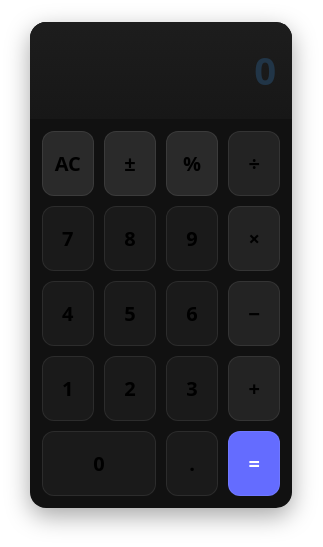
Test: percent converts value to fraction
Click the button "5" at [130, 314], box [104, 281, 156, 346]
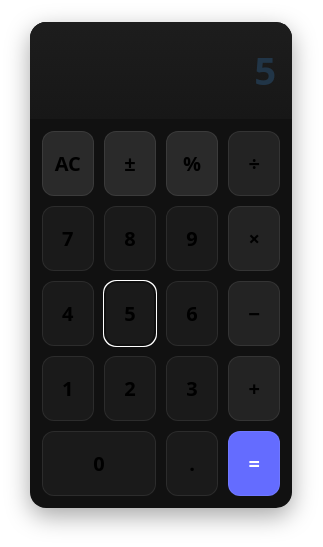
Click the button "0" at [99, 464], box [42, 431, 156, 496]
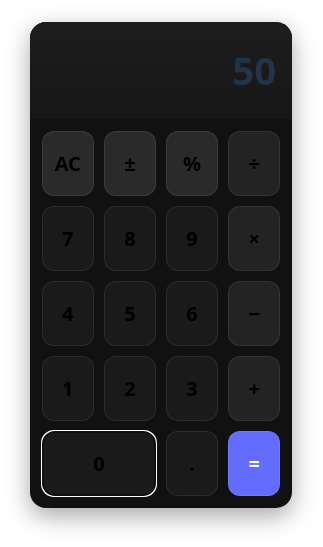
Click the button "%" at [192, 164], box [166, 131, 218, 196]
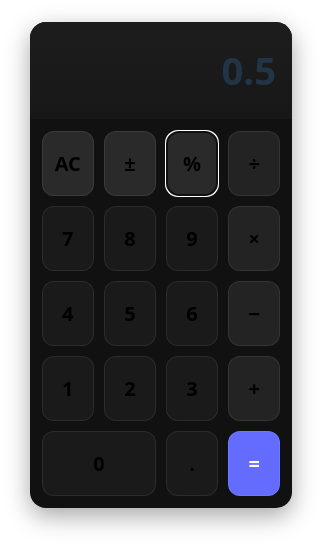
Expected: the text named "display" reads "0.5", [221, 44, 276, 96]
